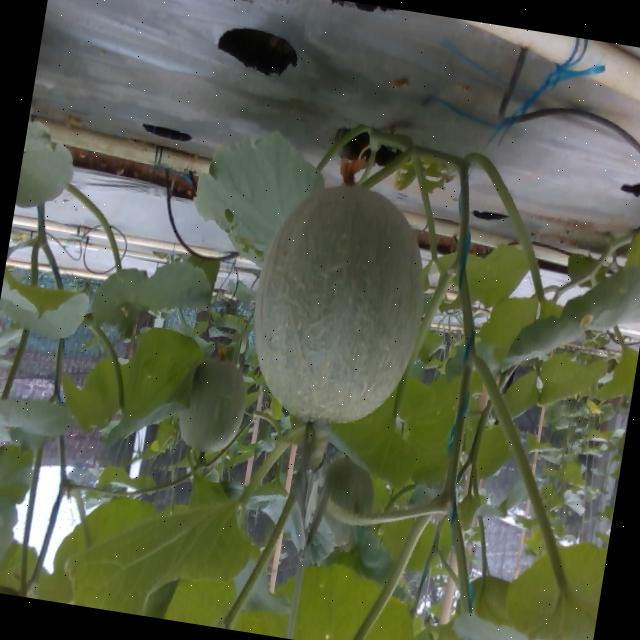melon: (253, 184, 422, 421)
